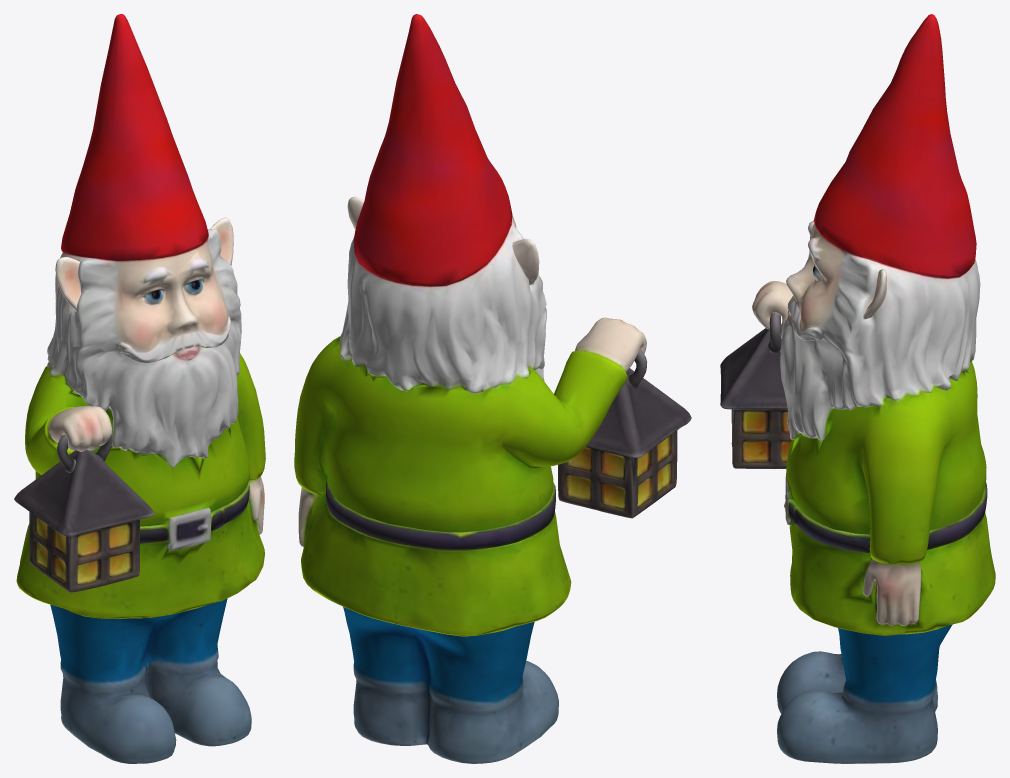
The model's file is garden_gnome.glb.
The picture shows the model from 3 angles, left to right: view 1: azimuth 30°, elevation 25°; view 2: azimuth 150°, elevation 25°; view 3: azimuth 270°, elevation 25°; orthographic projection. The views are drawn at different scales.
Parts seen in each view (by area): view 1: garden_gnome; view 2: garden_gnome; view 3: garden_gnome.
Part boxes in pixels (x1,y1,x2,y2): garden_gnome: (14, 14, 265, 763); garden_gnome: (294, 14, 691, 763); garden_gnome: (720, 14, 995, 763).
Size of the model in its own units: 0.2577 by 0.5991 by 0.2097.
1 material, 1 textured.
